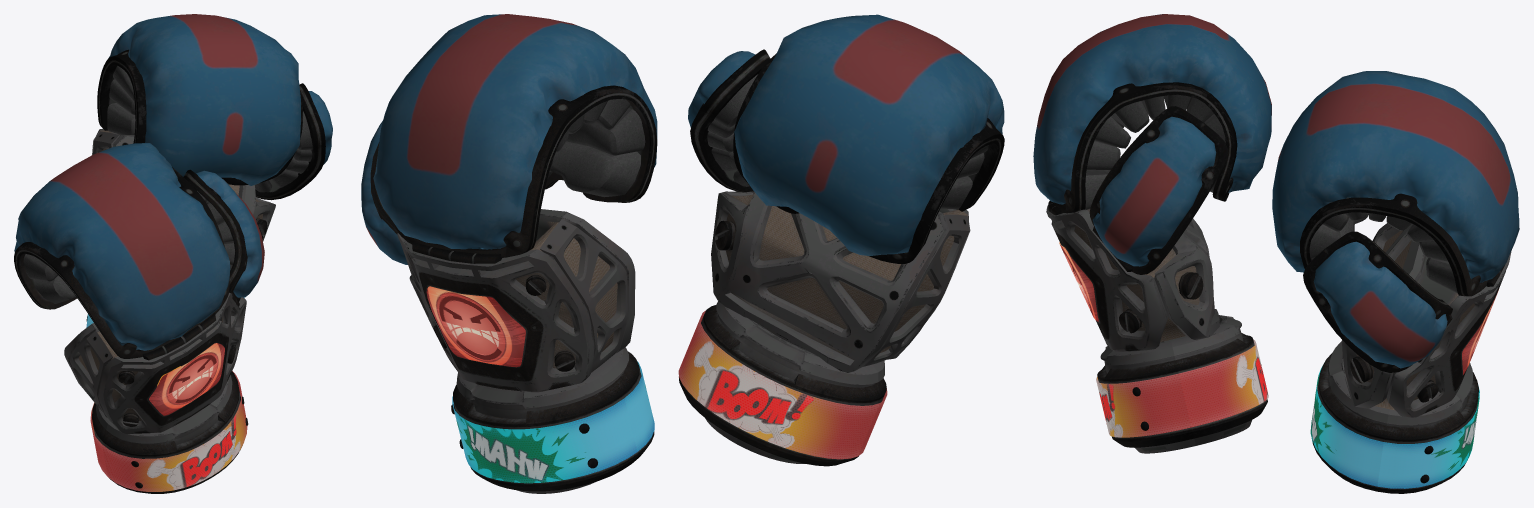
The picture shows the model from 3 angles, left to right: view 1: azimuth 30°, elevation 25°; view 2: azimuth 150°, elevation 25°; view 3: azimuth 270°, elevation 25°; orthographic projection. The views are drawn at different scales.
Visible parts, largest first — view 1: body_0_pathfinder_heirloom.001, body_0_pathfinder_heirloom, body_0_pathfinder_heirloom_wham_emote_pathfinder_heirloom_wh, body_0_pathfinder_base_emotes.001; view 2: body_0_pathfinder_heirloom.001, body_0_pathfinder_heirloom, body_0_pathfinder_heirloom_wham_emote_pathfinder_heirloom_wh, body_0_pathfinder_heirloom_oops_emote_pathfinder_heirloom_oo, body_0_pathfinder_base_emotes; view 3: body_0_pathfinder_heirloom, body_0_pathfinder_heirloom.001, body_0_pathfinder_heirloom_wham_emote_pathfinder_heirloom_wh, body_0_pathfinder_heirloom_oops_emote_pathfinder_heirloom_oo, body_0_pathfinder_base_emotes.001.
Part boxes in pixels (x1,y1,x2,y2): body_0_pathfinder_heirloom.001: (14,143,264,493); body_0_pathfinder_heirloom: (86,14,332,321); body_0_pathfinder_heirloom_wham_emote_pathfinder_heirloom_wh: (90,371,247,491); body_0_pathfinder_base_emotes.001: (149,343,224,415); body_0_pathfinder_heirloom.001: (679,14,1004,466); body_0_pathfinder_heirloom: (361,14,657,493); body_0_pathfinder_heirloom_wham_emote_pathfinder_heirloom_wh: (678,310,887,459); body_0_pathfinder_heirloom_oops_emote_pathfinder_heirloom_oo: (452,361,654,483); body_0_pathfinder_base_emotes: (426,286,525,367); body_0_pathfinder_heirloom: (1272,71,1519,493); body_0_pathfinder_heirloom.001: (1033,14,1271,453); body_0_pathfinder_heirloom_wham_emote_pathfinder_heirloom_wh: (1096,339,1268,437); body_0_pathfinder_heirloom_oops_emote_pathfinder_heirloom_oo: (1310,366,1479,488); body_0_pathfinder_base_emotes.001: (1059,242,1098,321).
Bounding box in the file's own units: 13.45 × 12.32 × 12.71.
4 materials, 4 textured.
